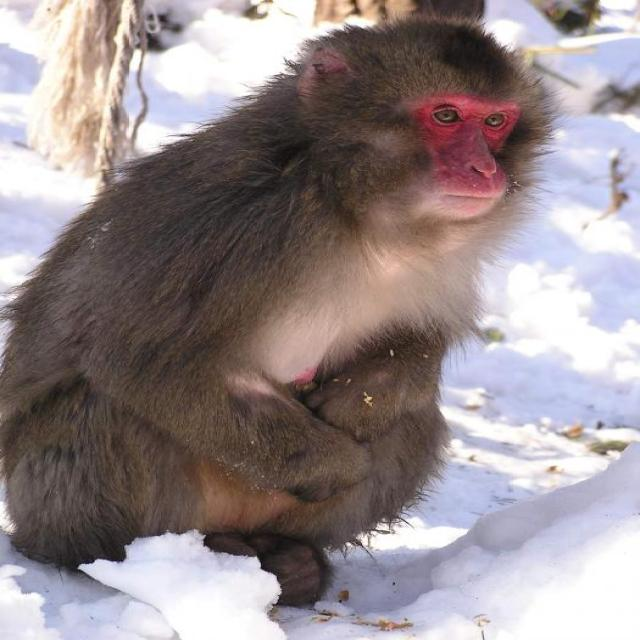not_pig: (0, 10, 561, 608)
